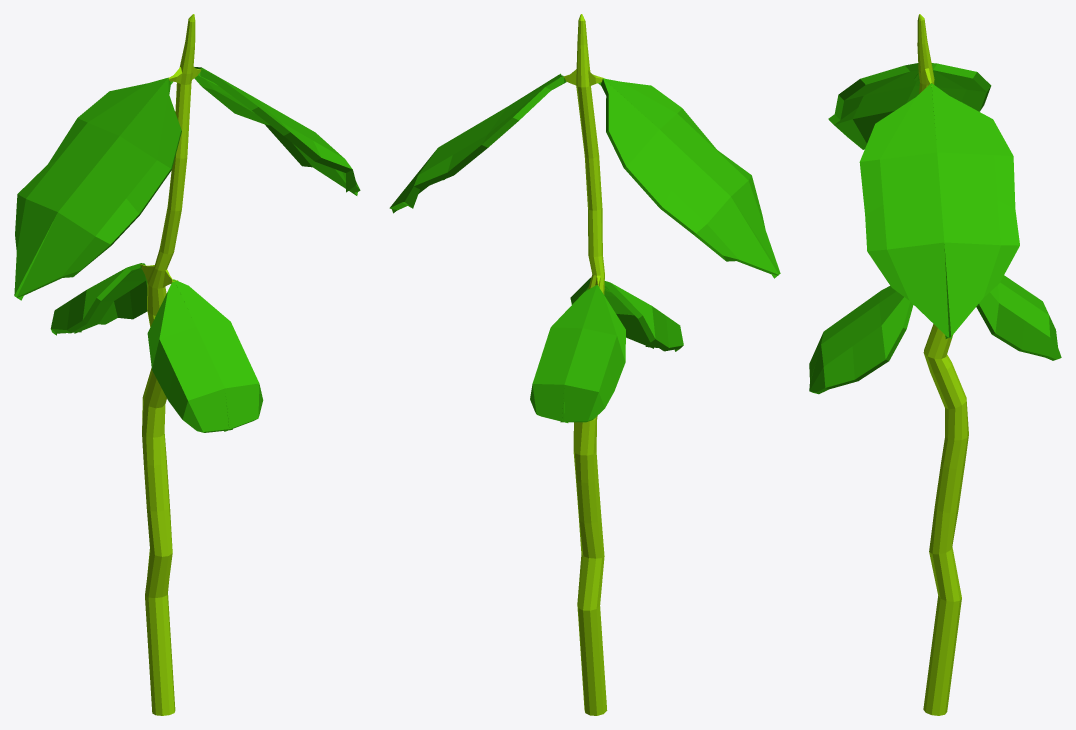
The model's file is Lima Bean Germination Growth.fbx.
The picture shows the model from 3 angles, left to right: view 1: azimuth 30°, elevation 25°; view 2: azimuth 150°, elevation 25°; view 3: azimuth 270°, elevation 25°; orthographic projection. The views are drawn at different scales.
Visible parts, largest first — view 1: Plane.002, Cylinder, Plane, Plane.003, Plane.001; view 2: Plane.002, Cylinder, Plane.001, Plane.003, Plane; view 3: Plane.003, Cylinder, Plane, Plane.002, Plane.001.
Part boxes in pixels (bbox=[...]): Plane.002: bbox=[14, 77, 181, 300]; Cylinder: bbox=[140, 14, 200, 715]; Plane: bbox=[147, 279, 263, 432]; Plane.003: bbox=[194, 67, 360, 195]; Plane.001: bbox=[50, 263, 147, 335]; Plane.002: bbox=[598, 78, 780, 278]; Cylinder: bbox=[560, 14, 607, 715]; Plane.001: bbox=[530, 285, 625, 422]; Plane.003: bbox=[389, 73, 566, 213]; Plane: bbox=[570, 277, 683, 351]; Plane.003: bbox=[859, 83, 1019, 338]; Cylinder: bbox=[917, 14, 968, 715]; Plane: bbox=[809, 286, 913, 394]; Plane.002: bbox=[828, 63, 991, 149]; Plane.001: bbox=[976, 275, 1061, 360].
Size of the model in its own units: 418 by 752 by 243.
